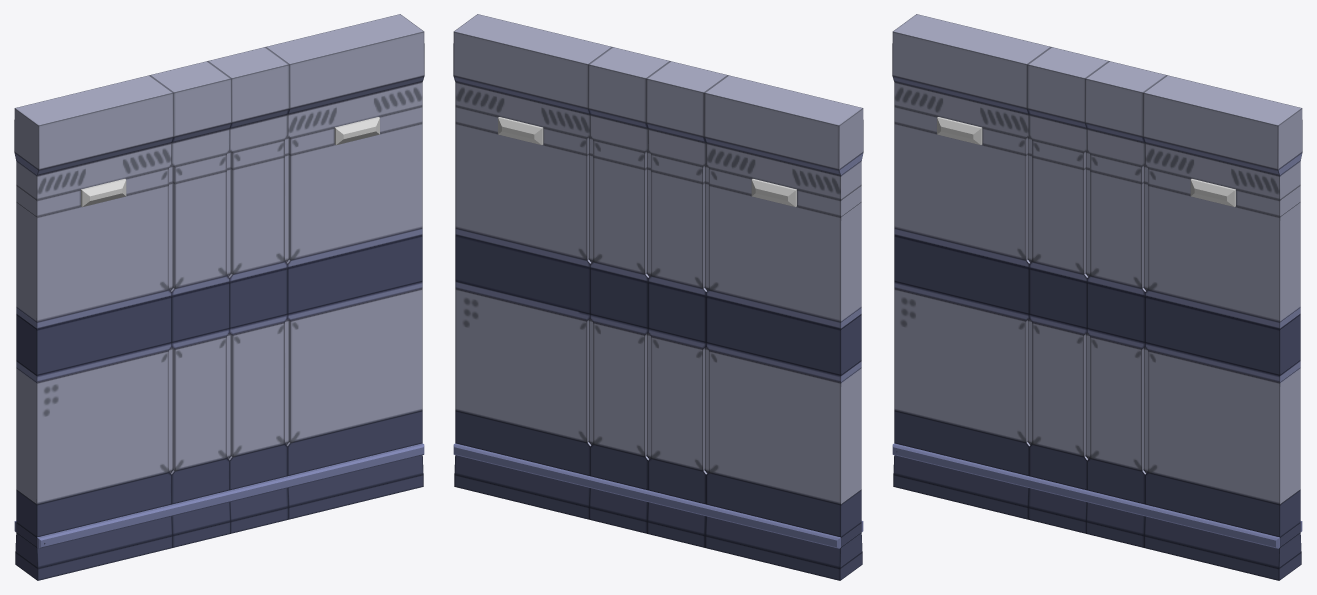
Rendered from Wall lobby fixed.fbx.
3 views of the same model, side by side, from view 1: azimuth 30°, elevation 25°; view 2: azimuth 150°, elevation 25°; view 3: azimuth 330°, elevation 25° (orthographic).
Visible parts, largest first — view 1: Cube.001; view 2: Cube.001; view 3: Cube.001.
Part boxes in pixels (x1,y1,x2,y2): Cube.001: (14, 14, 424, 580); Cube.001: (453, 14, 863, 580); Cube.001: (892, 14, 1302, 580).
Size of the model in its own units: 300 by 339 by 36.4.
